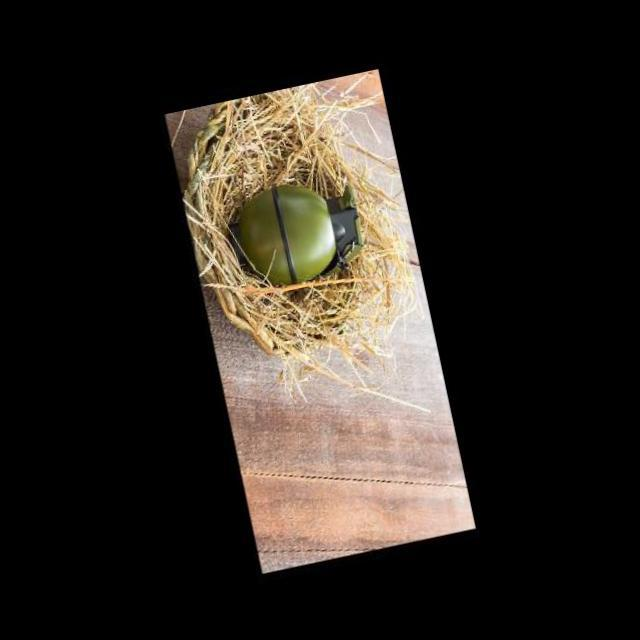grenade: (224, 159, 371, 286)
